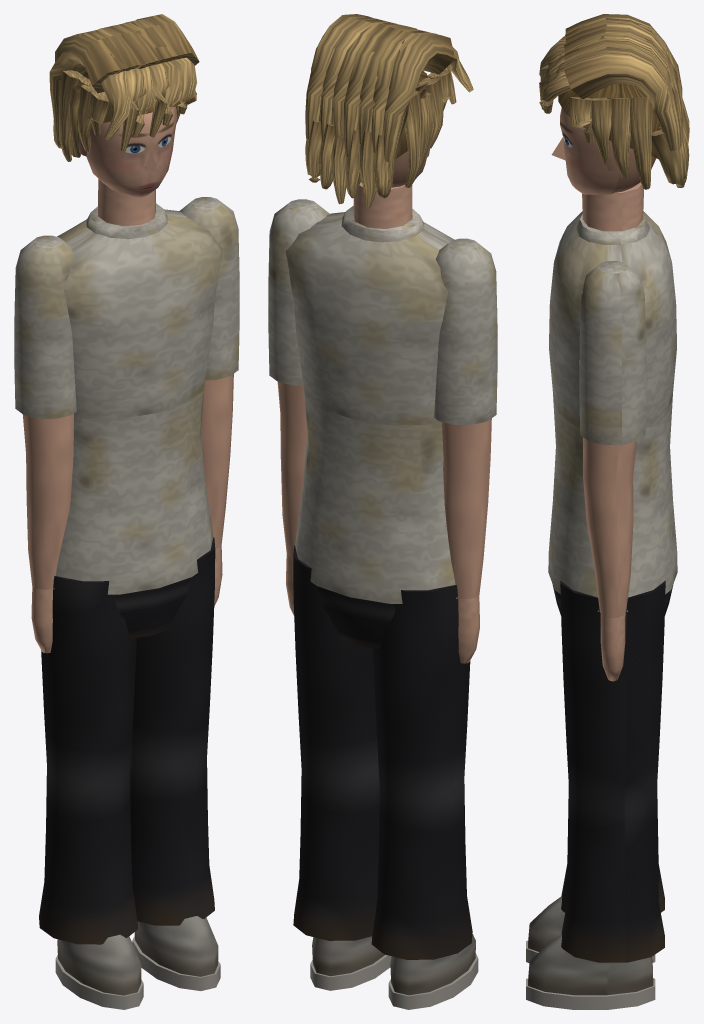
Rendered from Alex_PS2_Base.glb.
3 views of the same model, side by side, from view 1: azimuth 30°, elevation 25°; view 2: azimuth 150°, elevation 25°; view 3: azimuth 270°, elevation 25° (orthographic).
Visible parts, largest first — view 1: Alex_PS2_Base; view 2: Alex_PS2_Base; view 3: Alex_PS2_Base.
Part boxes in pixels (x1,y1,x2,y2): Alex_PS2_Base: (14,14,239,1009); Alex_PS2_Base: (268,14,497,1009); Alex_PS2_Base: (526,14,689,1009).
Bounding box in the file's own units: 0.506 × 2.1 × 0.3298.
8 materials, 7 textured.
